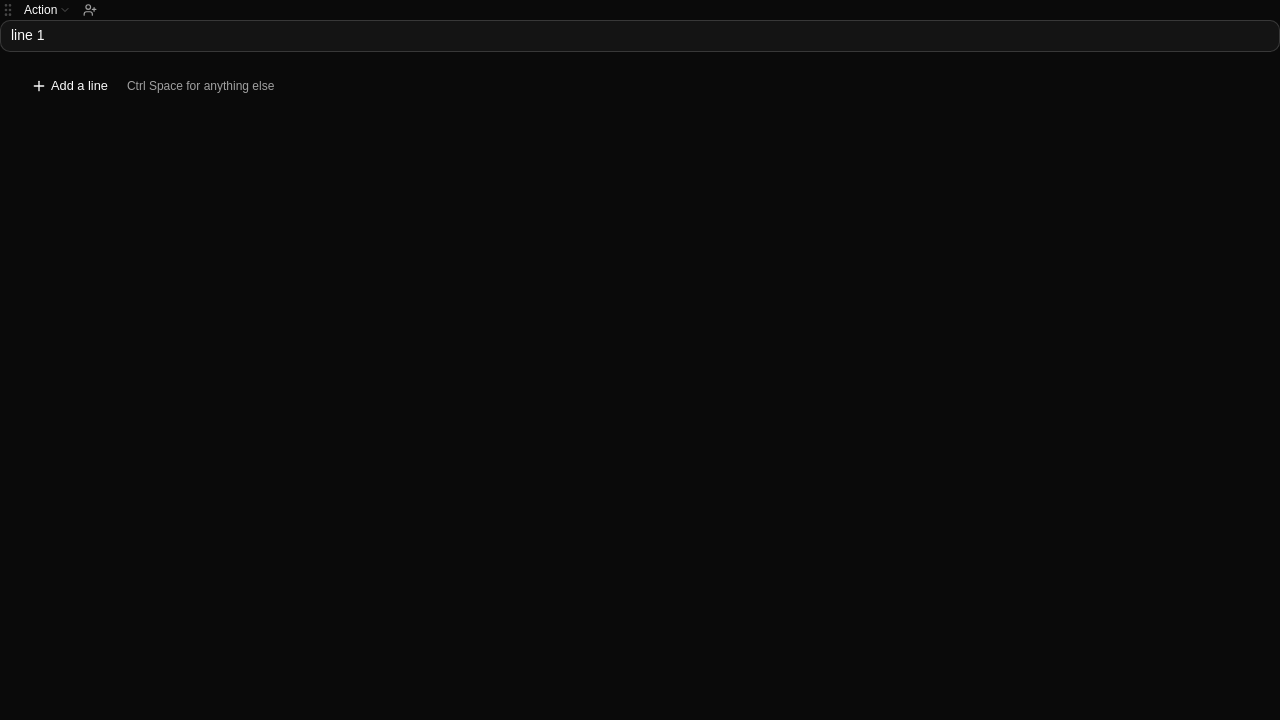
it: ShotLines › will not make a line dialogue while nobody can say it
The image size is (1280, 720).
Click the button with aria-label "What line 1 is" at coordinates (48, 10), box [20,0,75,20]
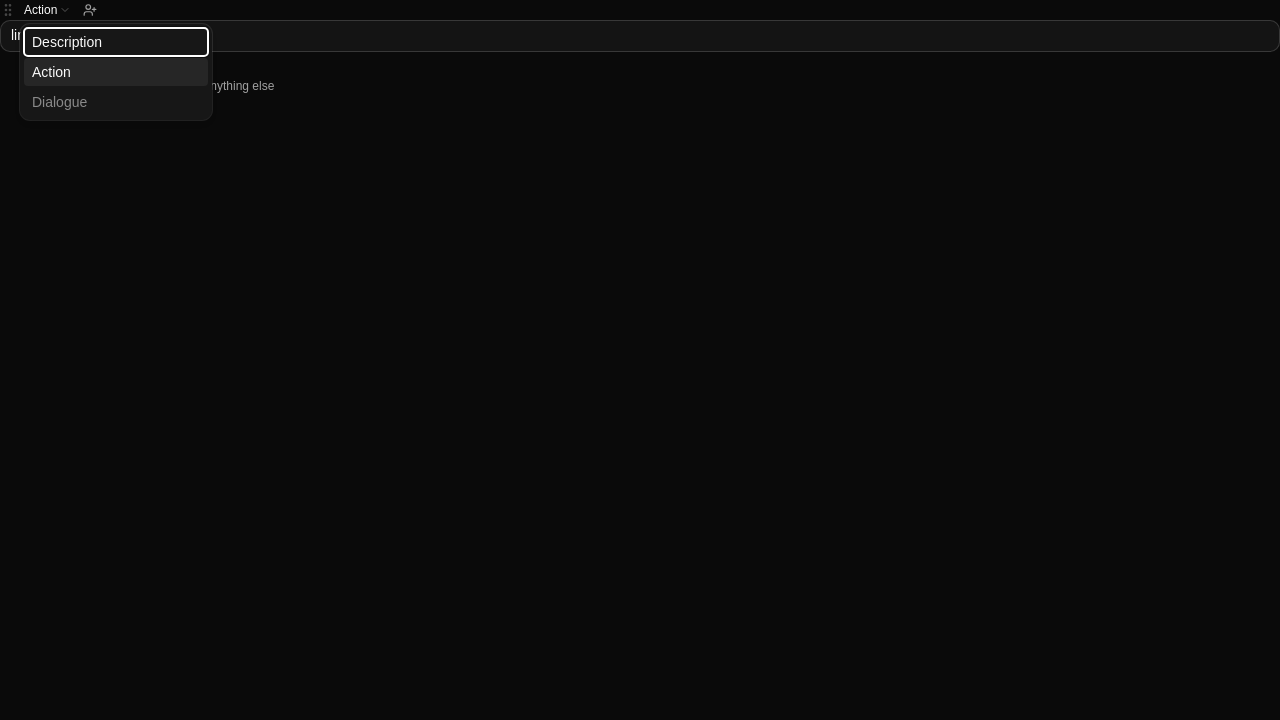
Expected: the button "Dialogue" is disabled, [24,88,208,116]
